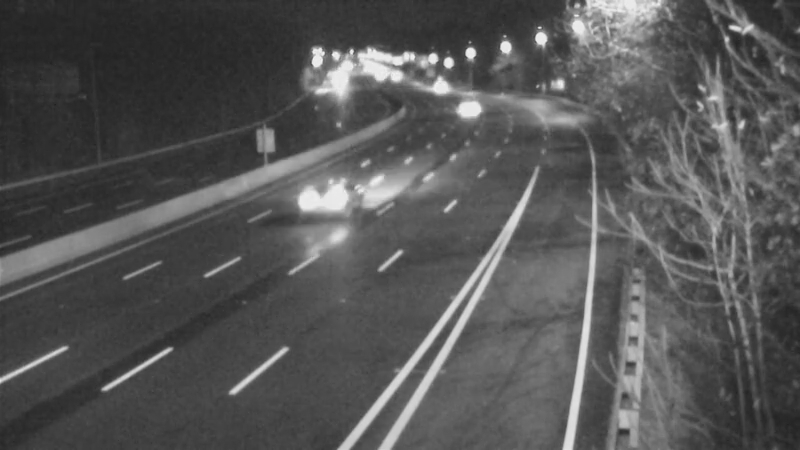vehicle: (286, 161, 366, 241), (373, 50, 423, 100), (409, 60, 459, 110), (444, 81, 494, 131)
